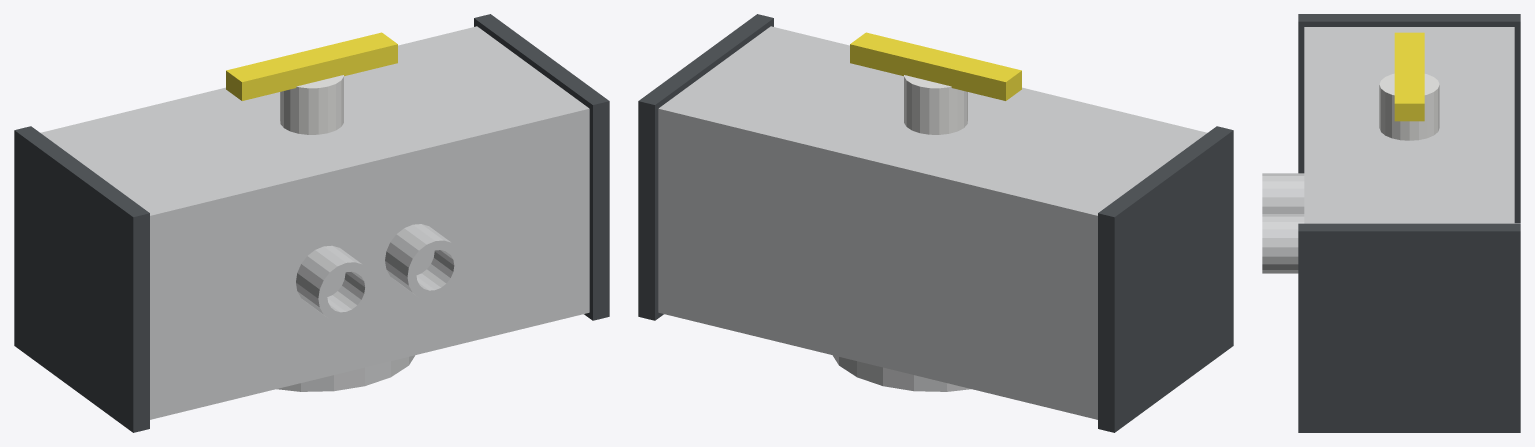
Rendered from actuator-valve.glb.
The picture shows the model from 3 angles, left to right: view 1: azimuth 30°, elevation 25°; view 2: azimuth 150°, elevation 25°; view 3: azimuth 270°, elevation 25°; orthographic projection. The views are drawn at different scales.
Parts seen in each view (by area): view 1: body, shaft, port-2, port-4; view 2: body, shaft; view 3: body, shaft, port-4, port-2.
Boxes of the visible parts, <box> form: body: <box>14,14,609,432</box>; shaft: <box>226,32,397,134</box>; port-2: <box>296,245,373,321</box>; port-4: <box>385,224,462,299</box>; body: <box>638,14,1233,432</box>; shaft: <box>850,32,1021,134</box>; body: <box>1298,14,1520,432</box>; shaft: <box>1379,32,1439,140</box>; port-4: <box>1262,214,1304,273</box>; port-2: <box>1262,173,1304,213</box>.
Size of what is drawn, in the model's own units: 0.171 by 0.0995 by 0.086.
